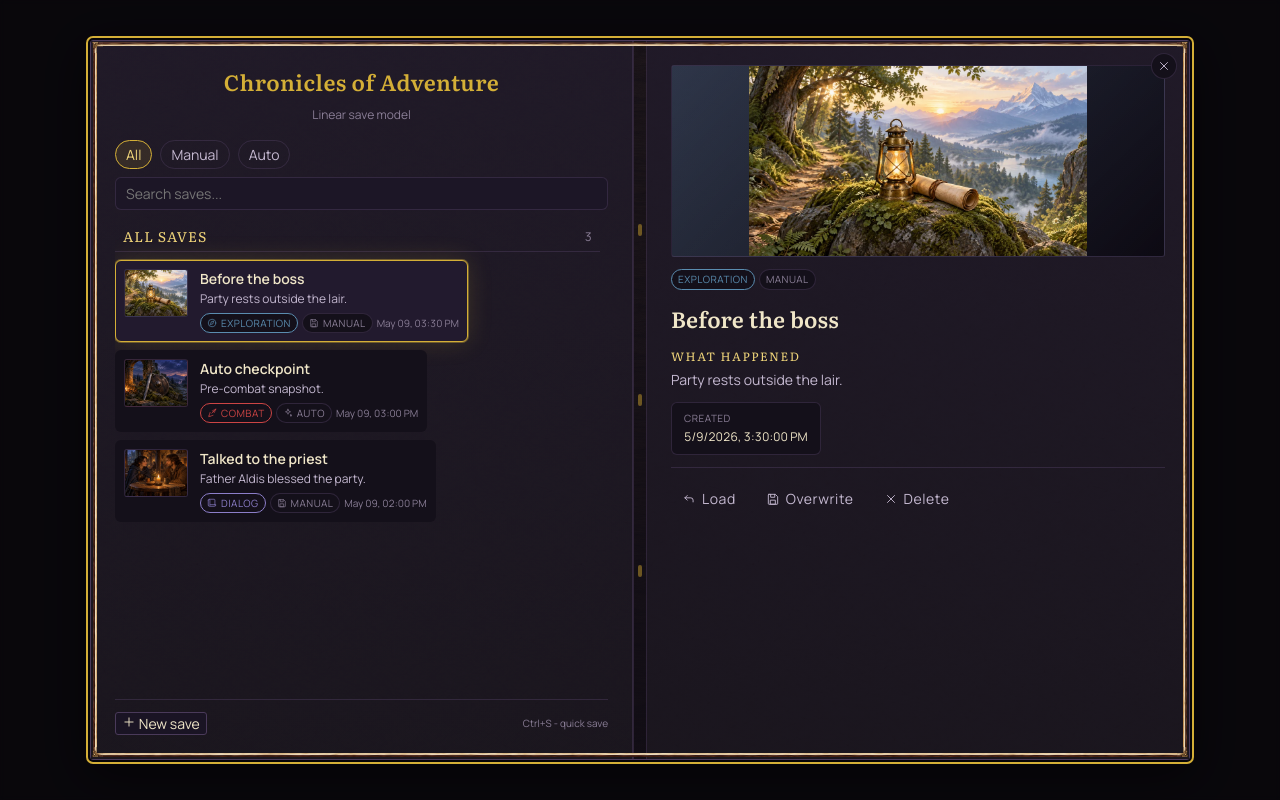
Test: SavesScreen › Auto tab narrows the list to auto saves only
This screenshot has width=1280, height=800.
Expected: the text "Before the boss" is shown, x1=200 y1=269 x2=305 y2=288
Click the tab "Auto".
click(264, 154)  # box x1=238 y1=140 x2=290 y2=169
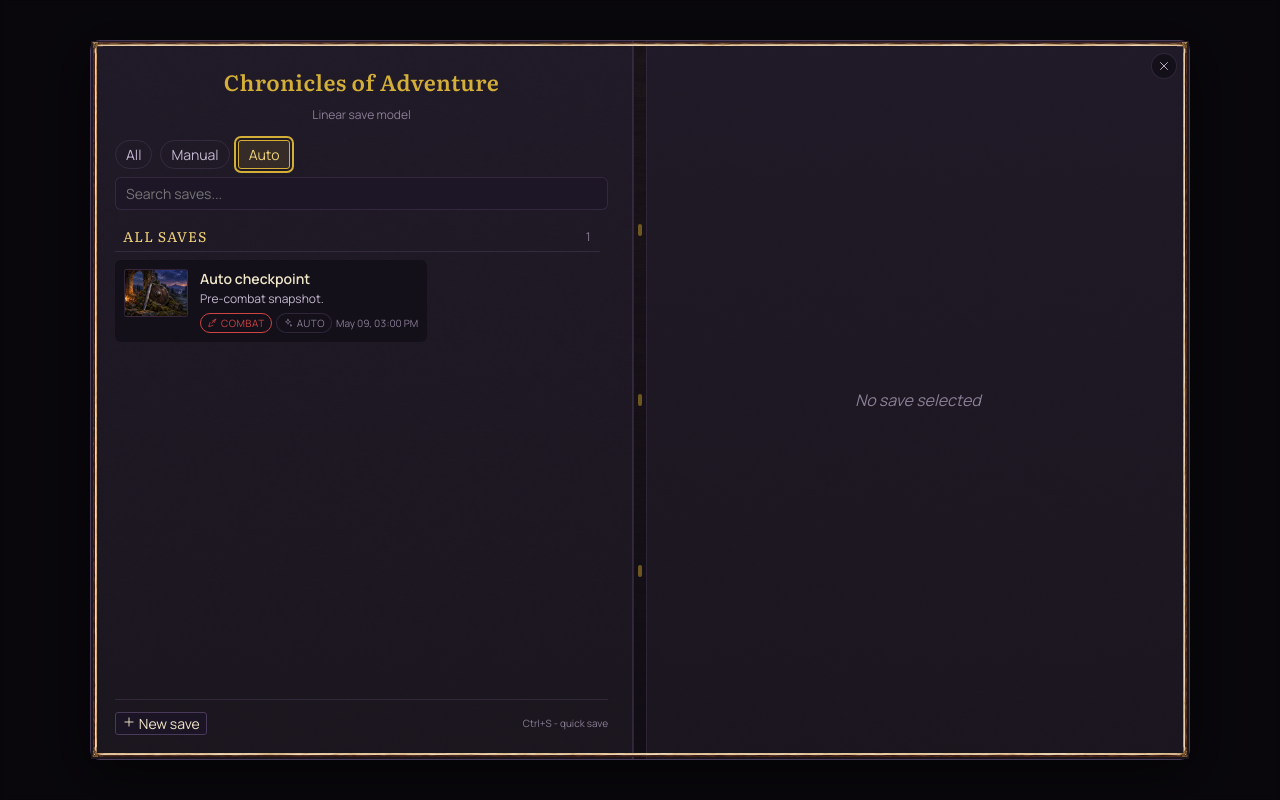
Expected: the text "Auto checkpoint" is shown, x1=200 y1=269 x2=310 y2=288
Expected: the button "Before the boss" is gone
